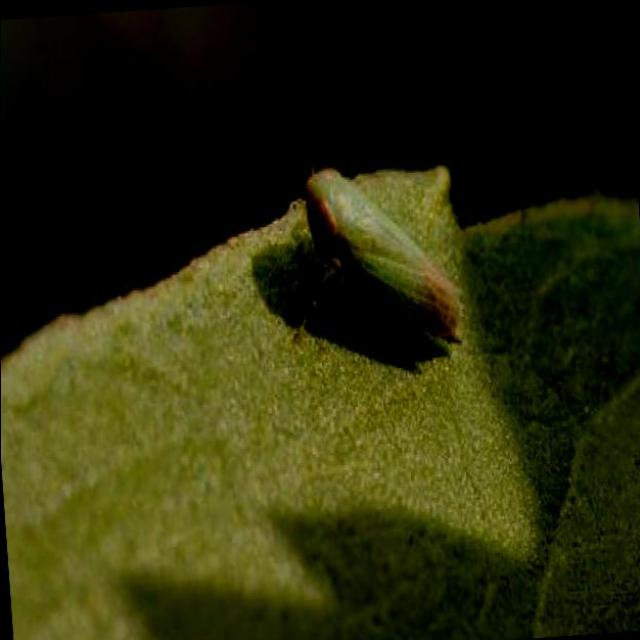green leaf hopper: (308, 170, 459, 337)
